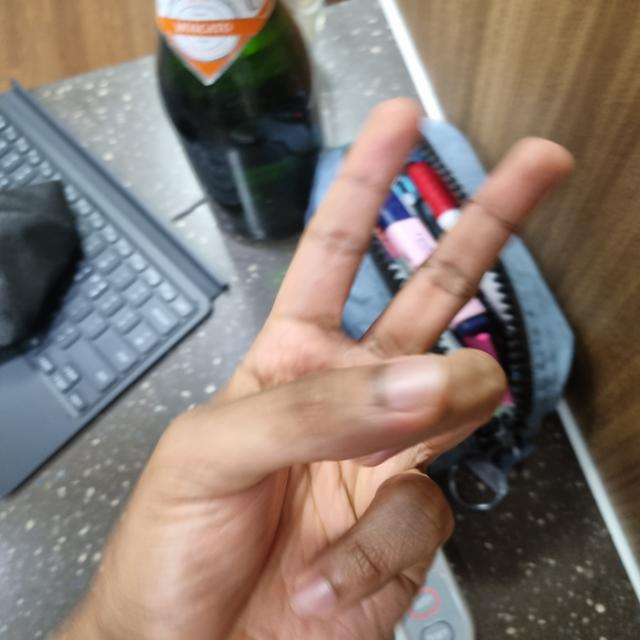Scissors: (56, 102, 572, 639)
